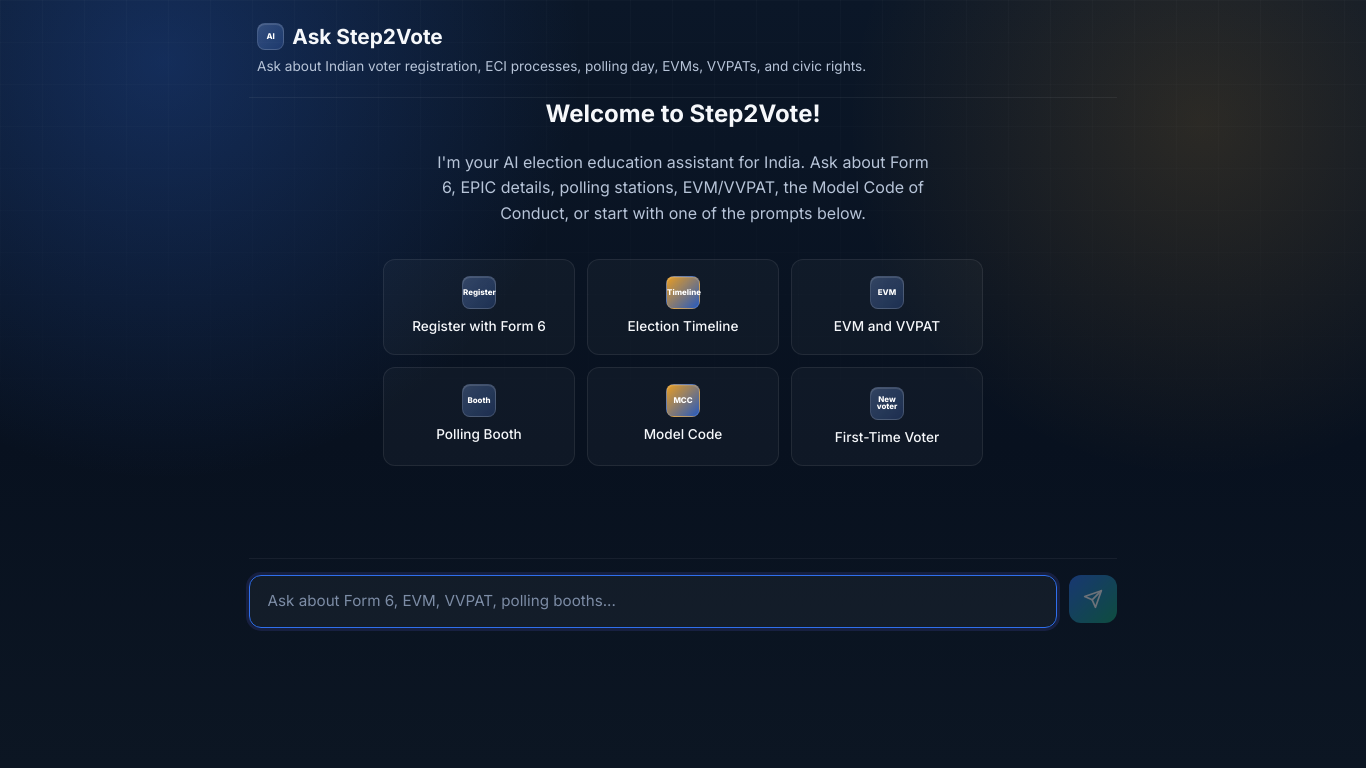
Chat Page › enables send button when input has text
(page scrolled)
In the field named "type your question": x=653, y=601 left=249, top=574, right=1057, bottom=628, type "How do I register to vote?"
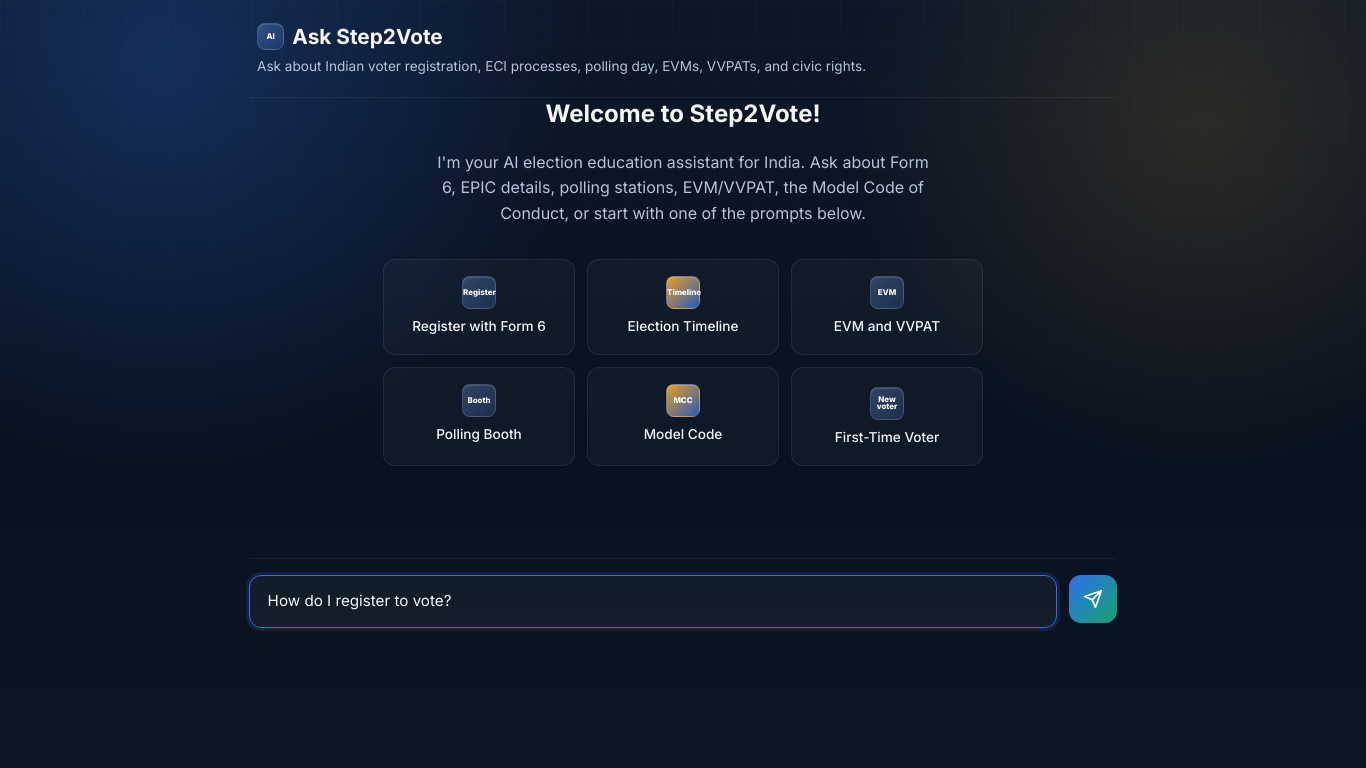
Check: the button named "send message" is enabled, box left=1069, top=574, right=1117, bottom=622
